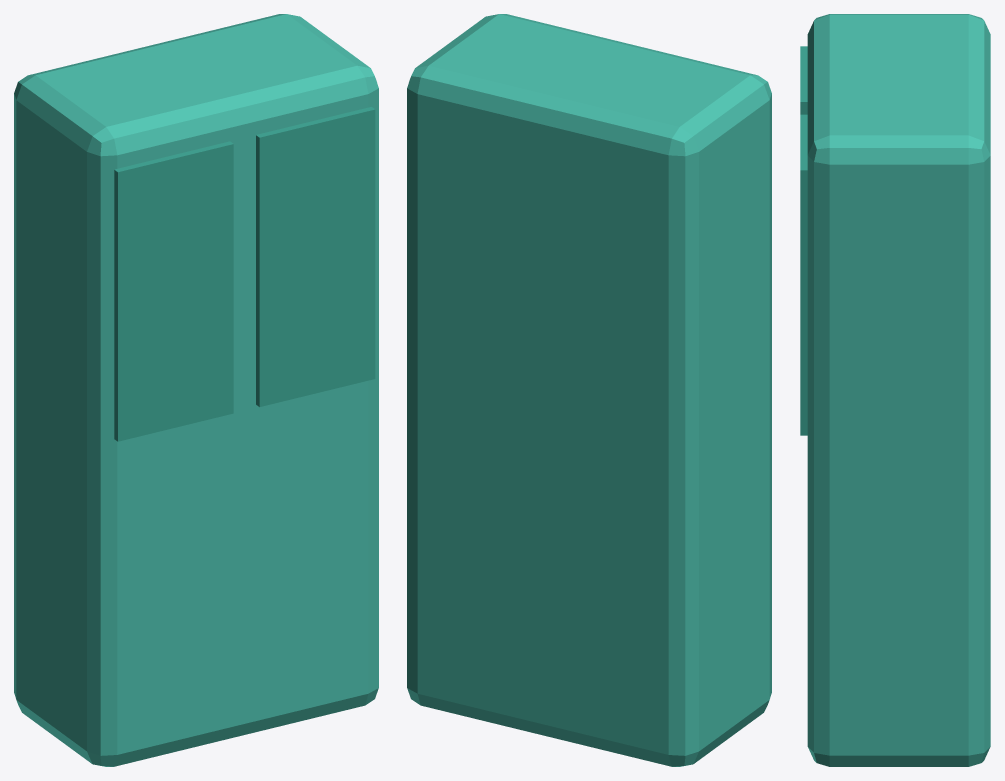
The model's file is Boxing_Locker.fbx.
The picture shows the model from 3 angles, left to right: view 1: azimuth 30°, elevation 25°; view 2: azimuth 150°, elevation 25°; view 3: azimuth 270°, elevation 25°; orthographic projection.
Parts seen in each view (by area): view 1: Locker; view 2: Locker; view 3: Locker.
Part boxes in pixels (<box>): Locker: <box>14,14,378,766</box>; Locker: <box>407,14,771,766</box>; Locker: <box>800,14,990,766</box>.
Size of the model in its own units: 0.9 by 1.9 by 0.52.
